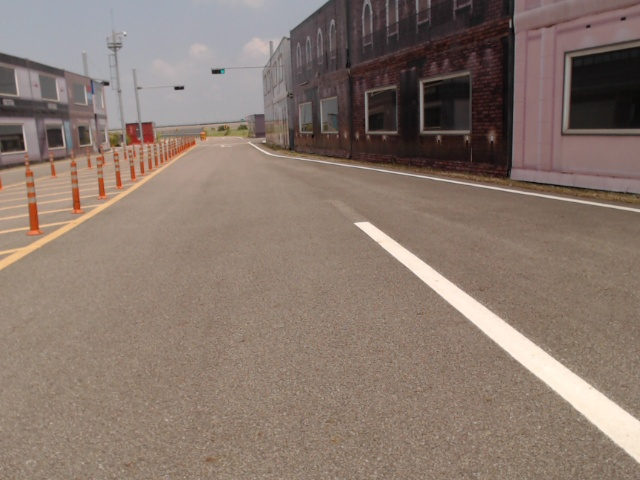green_3: (211, 69, 225, 75)
